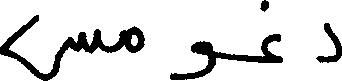X: (0, 10, 98, 80), (172, 36, 212, 80), (262, 0, 281, 67), (319, 18, 341, 67), (124, 21, 142, 57)
